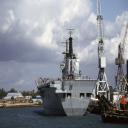Portanaves: (36, 26, 100, 119)
